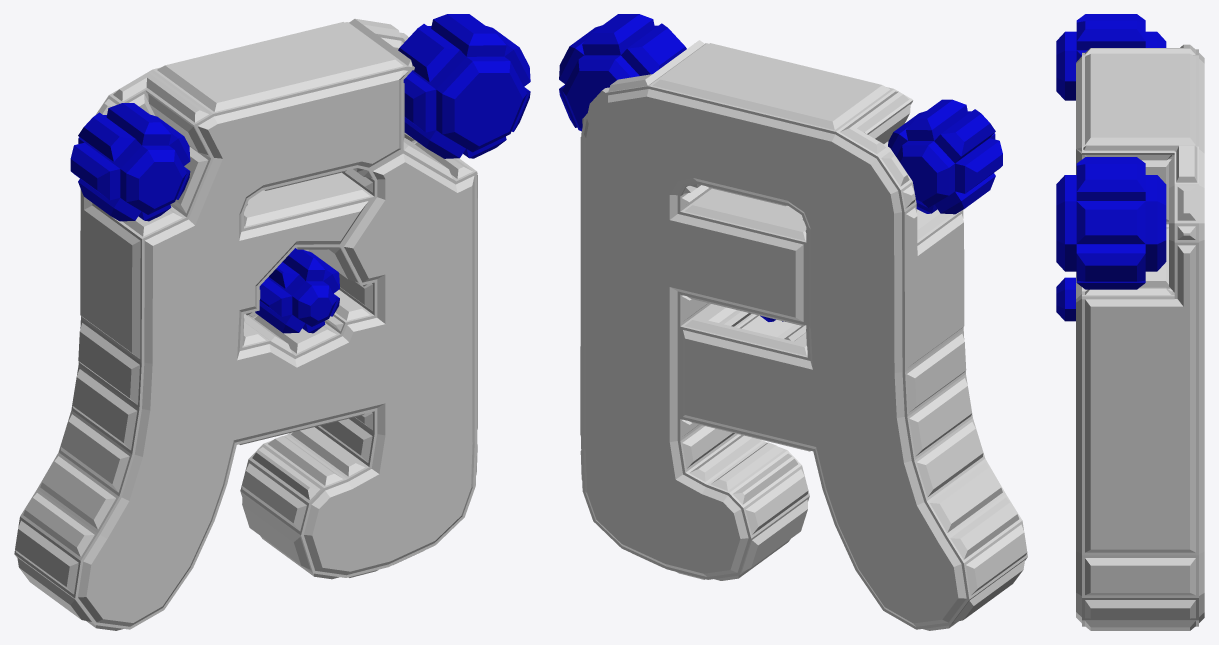
Rendered from Ch_China_月_01.fbx.
The picture shows the model from 3 angles, left to right: view 1: azimuth 30°, elevation 25°; view 2: azimuth 150°, elevation 25°; view 3: azimuth 270°, elevation 25°; orthographic projection. The views are drawn at different scales.
Visible parts, largest first — view 1: sphere1; view 2: sphere1; view 3: sphere1.
Boxes of the visible parts, bbox=[...] form: sphere1: bbox=[14, 14, 530, 630]; sphere1: bbox=[559, 14, 1027, 630]; sphere1: bbox=[1056, 14, 1204, 630].
Size of the model in its own units: 0.8746 by 0.9383 by 0.2541.
